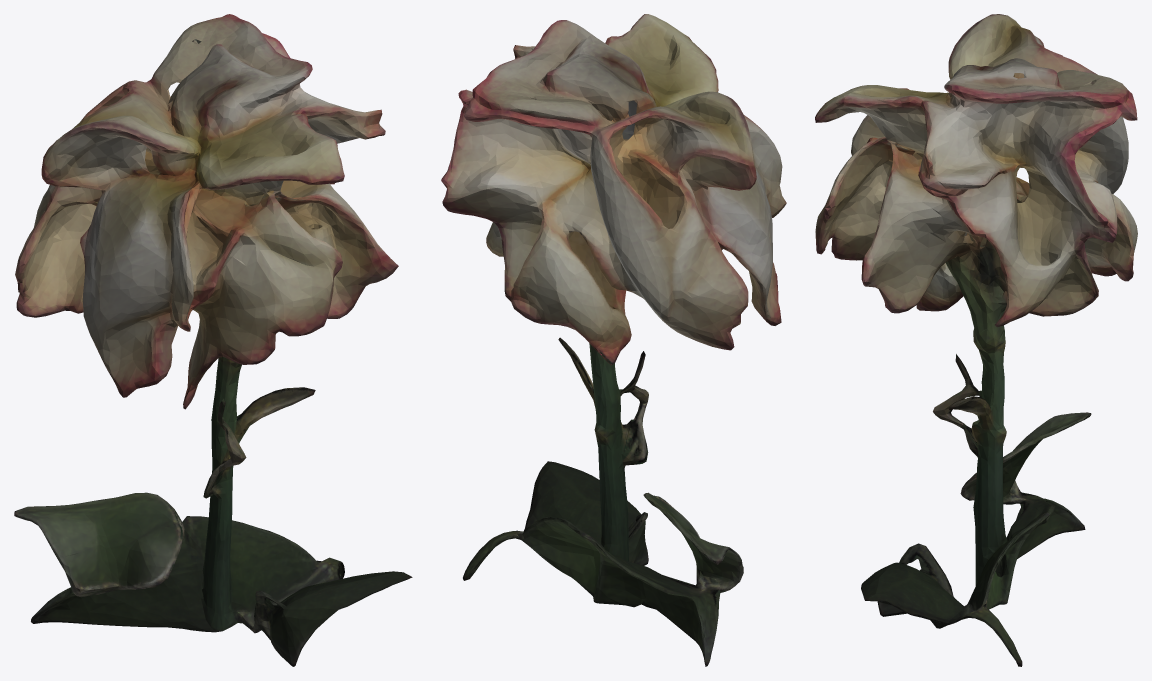
The picture shows the model from 3 angles, left to right: view 1: azimuth 30°, elevation 25°; view 2: azimuth 150°, elevation 25°; view 3: azimuth 270°, elevation 25°; orthographic projection.
Parts seen in each view (by area): view 1: world; view 2: world; view 3: world.
Boxes of the visible parts, left/top/right/bottom form: world: left=14, top=14, right=412, bottom=666; world: left=441, top=14, right=786, bottom=666; world: left=815, top=14, right=1137, bottom=666.
Size of the model in its own units: 0.56 by 0.9822 by 0.5167.
Materials: 1 (1 with a texture image).
